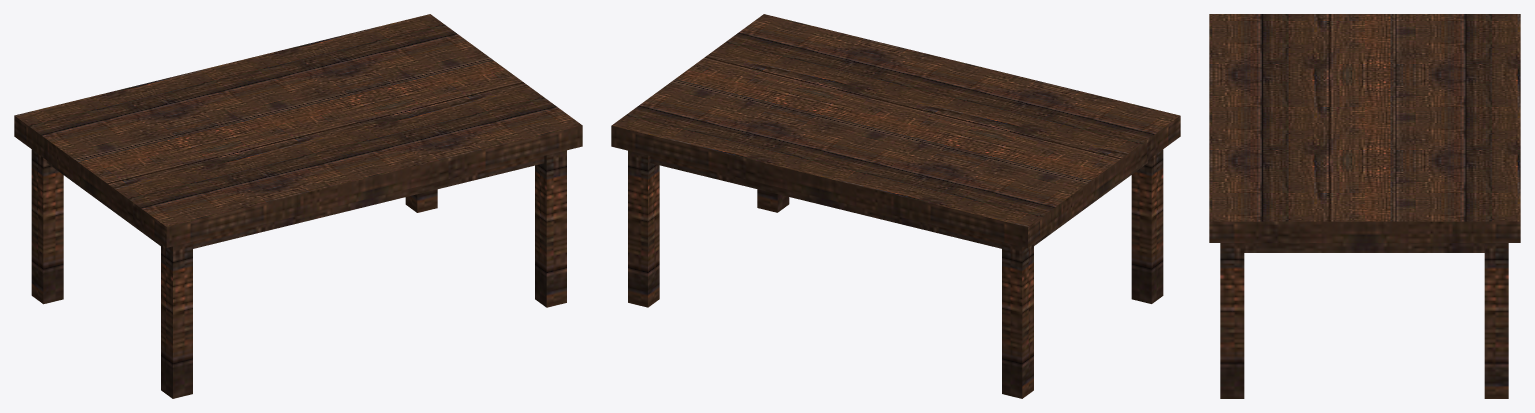
File: mesarectangular.fbx
3 renders of one model, left to right at view 1: azimuth 30°, elevation 25°; view 2: azimuth 150°, elevation 25°; view 3: azimuth 270°, elevation 25°, orthographic. The views are drawn at different scales.
Parts seen in each view (by area): view 1: Cube.199; view 2: Cube.199; view 3: Cube.199.
Boxes of the visible parts, <box> form: Cube.199: <box>14,14,582,398</box>; Cube.199: <box>611,14,1180,398</box>; Cube.199: <box>1209,14,1520,398</box>.
Bounding box in the file's own units: 391 × 160 × 248.
1 material, 1 textured.
